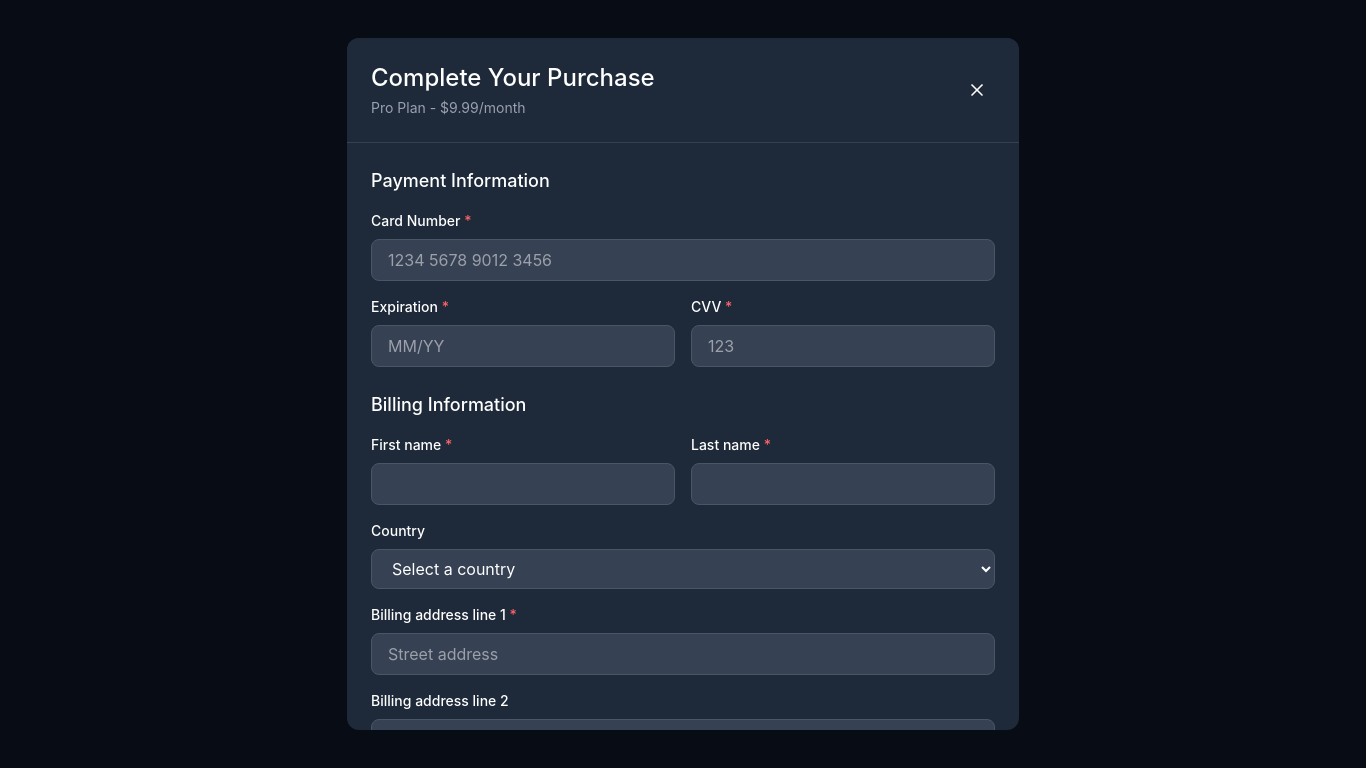
Test: PaymentDialog › should format expiration date
In the field with placeholder "MM/YY": x=523, y=346 [371, 325, 675, 367], type "1225"
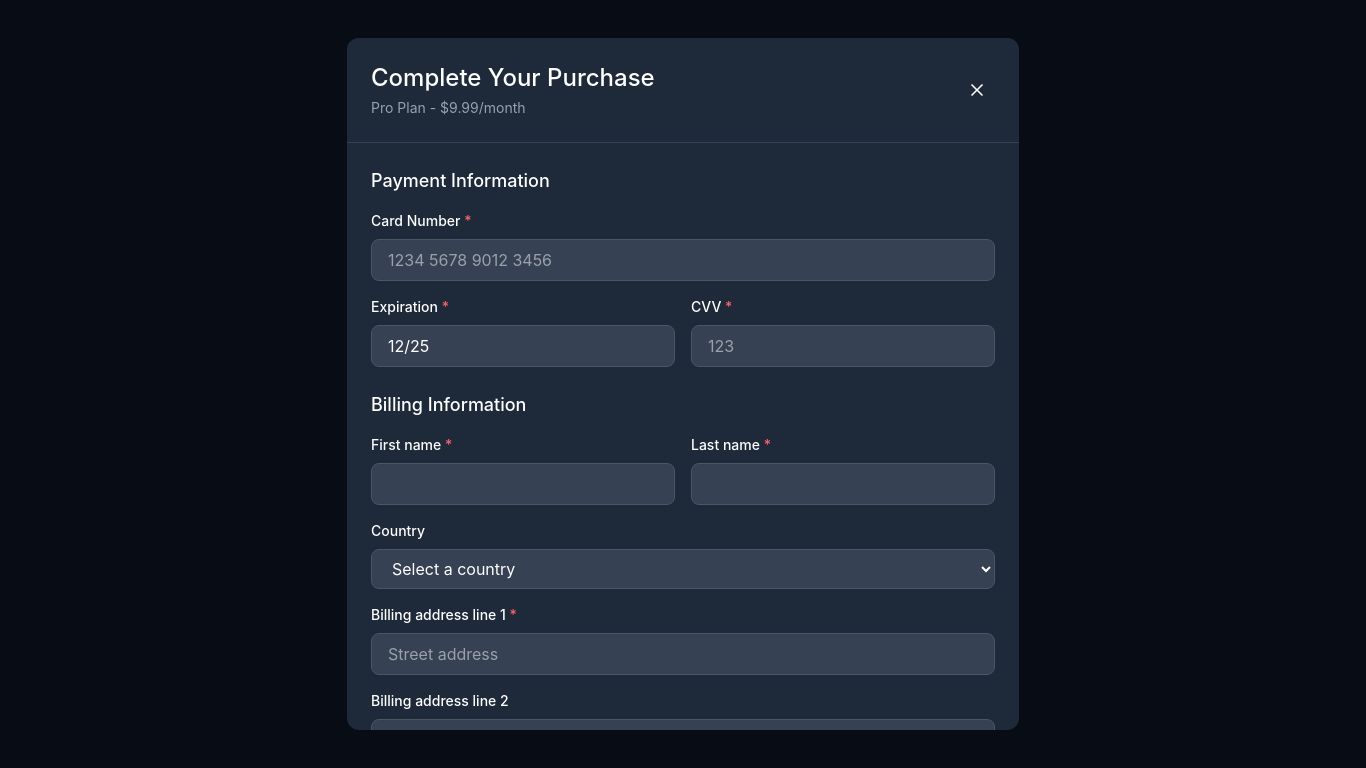
Check: the field with placeholder "MM/YY" below "Expiration" holds "12/25", box [371, 325, 675, 367]
